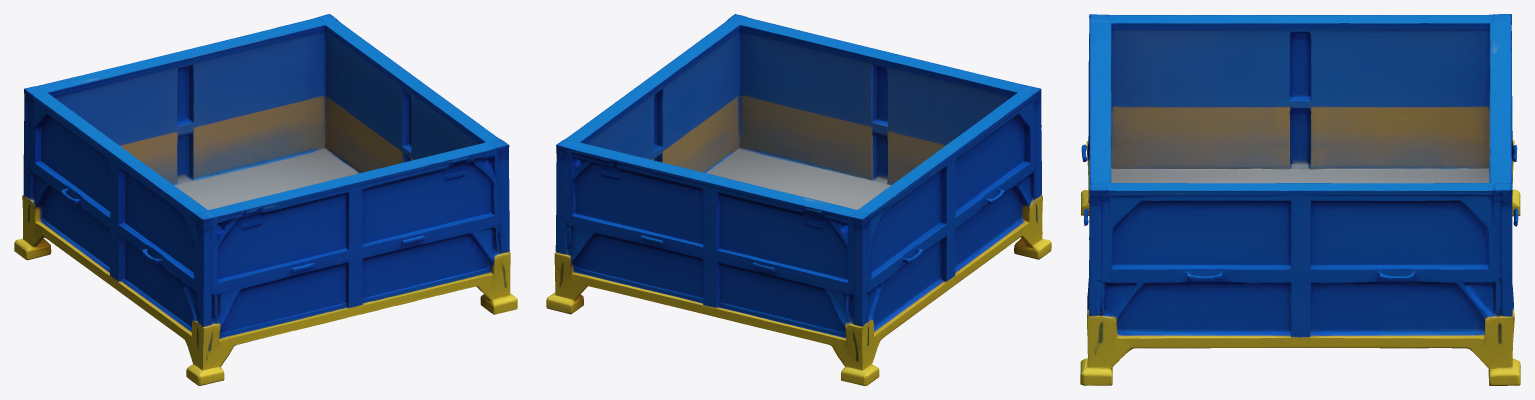
File: cage1.glb
3 views of the same model, side by side, from view 1: azimuth 30°, elevation 25°; view 2: azimuth 150°, elevation 25°; view 3: azimuth 270°, elevation 25° (orthographic). The views are drawn at different scales.
Visible parts, largest first — view 1: world; view 2: world; view 3: world.
Part boxes in pixels (x1,y1,x2,y2): world: (14, 14, 517, 385); world: (546, 14, 1051, 385); world: (1080, 14, 1520, 385).
Size of the model in its own units: 0.9936 by 0.4824 by 0.9998.
1 material, 1 textured.
